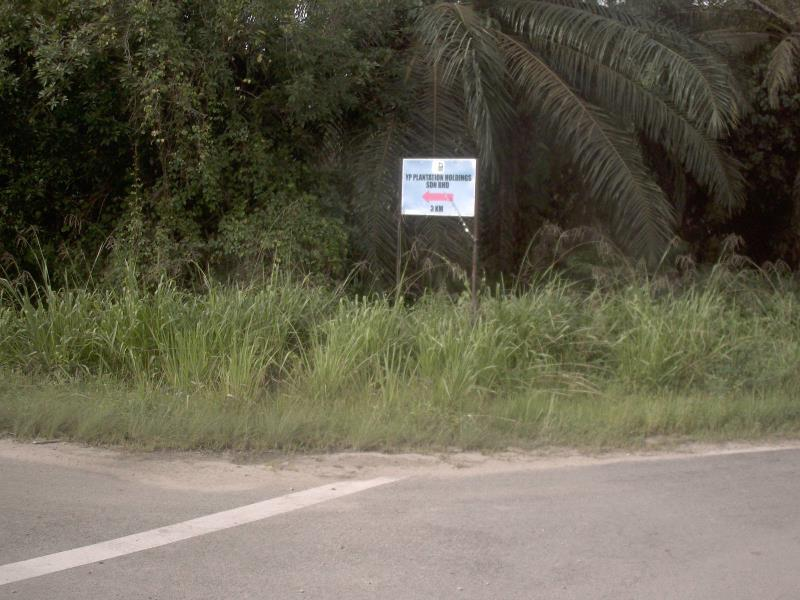ads_sign: (389, 147, 487, 226)
